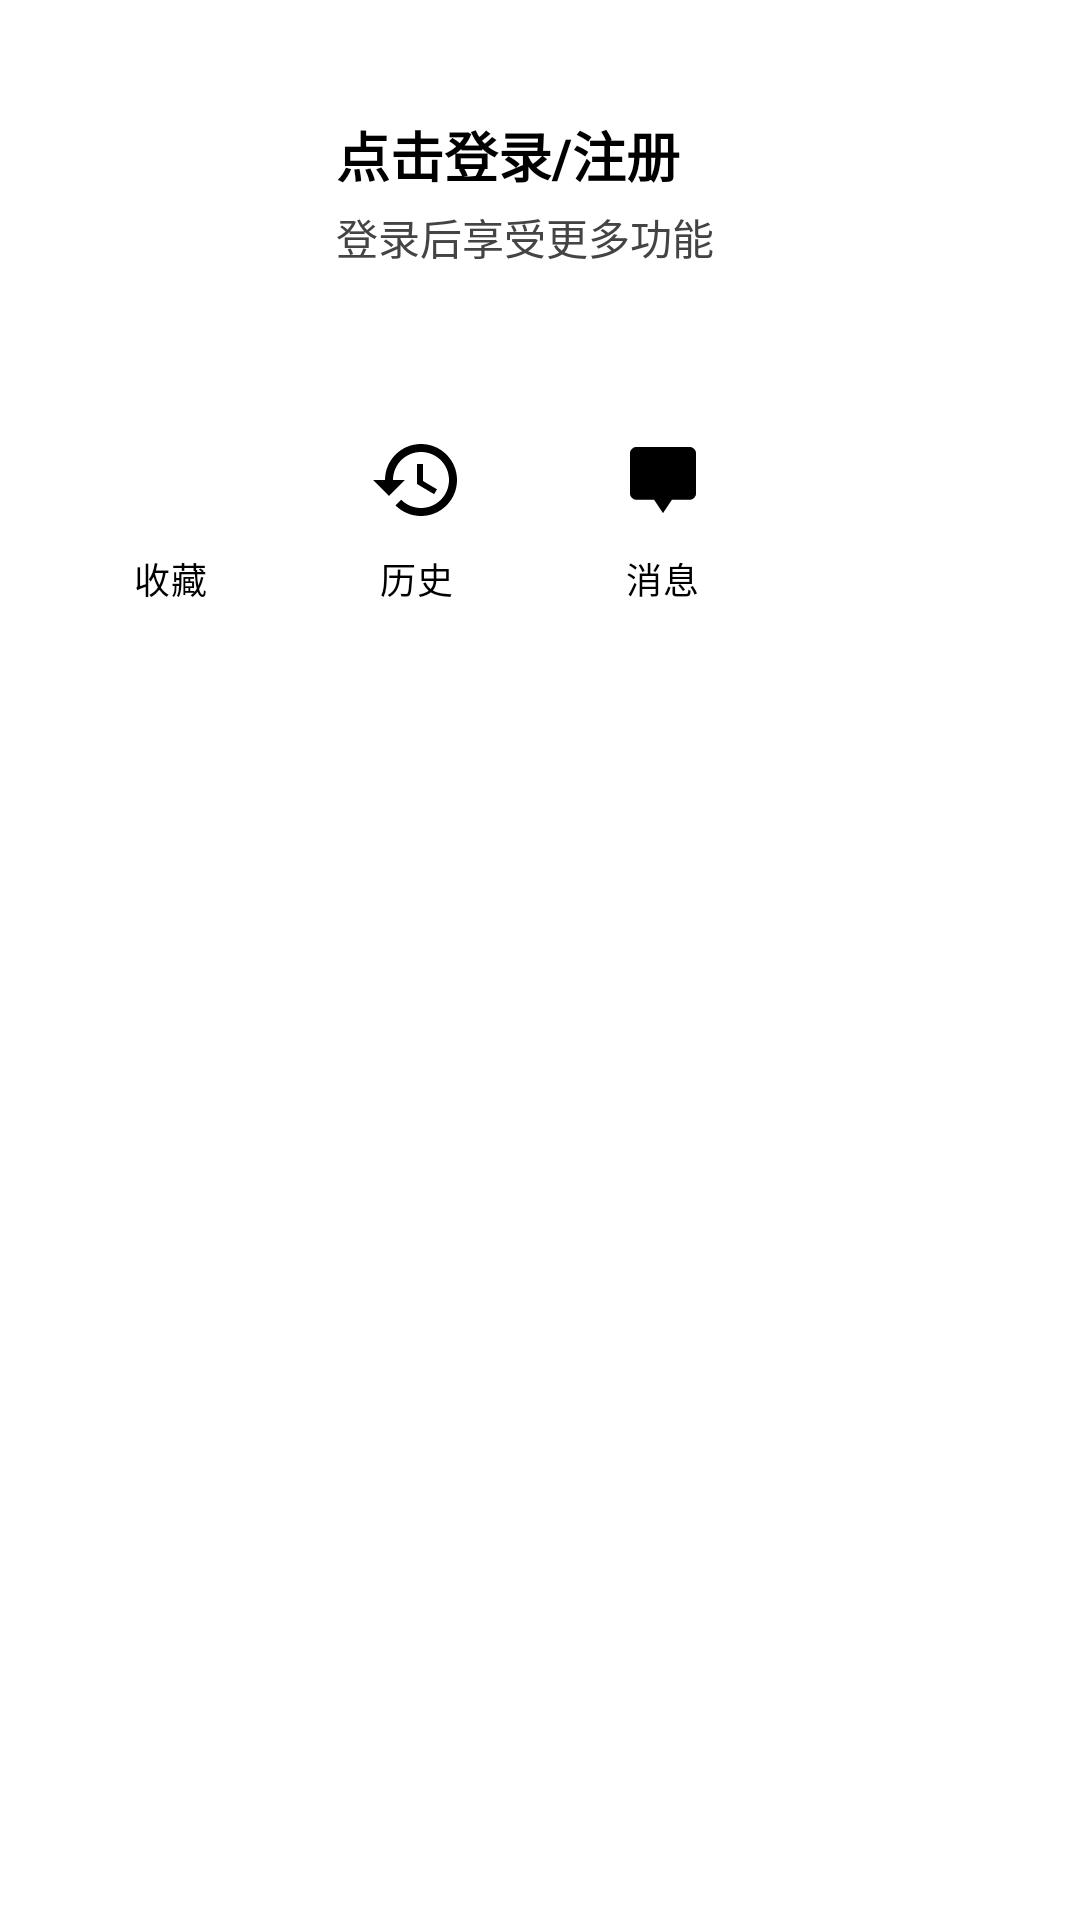

Named icons in this screenshot (1080 × 1920) and their bounding boxes, region(x1, y1, x2, y2):
message: region(630, 447, 696, 513)
